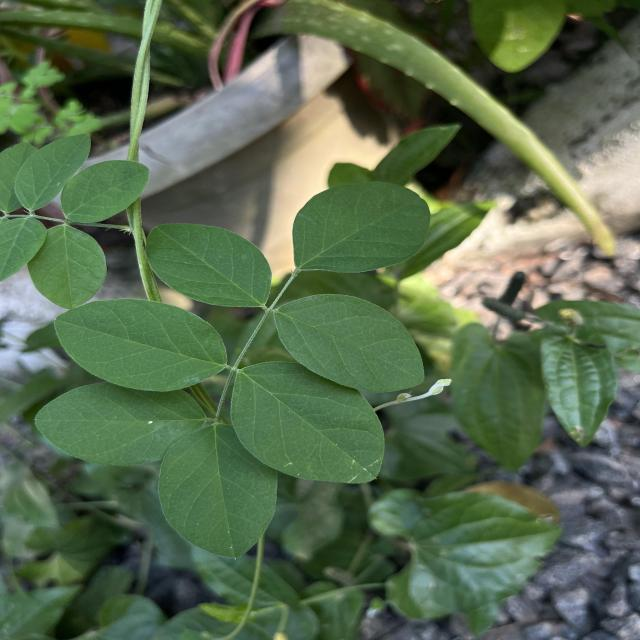Clitoria ternatea: (229, 358, 387, 486), (52, 297, 230, 394), (157, 424, 280, 560), (272, 292, 427, 394), (33, 382, 209, 468), (290, 180, 434, 274), (143, 220, 275, 310)
